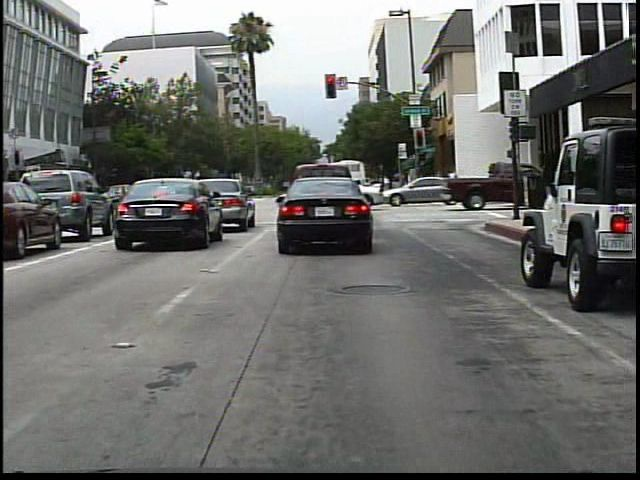person: (429, 165, 445, 197), (446, 167, 463, 197)
